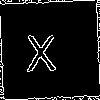X: (24, 24, 57, 72)
